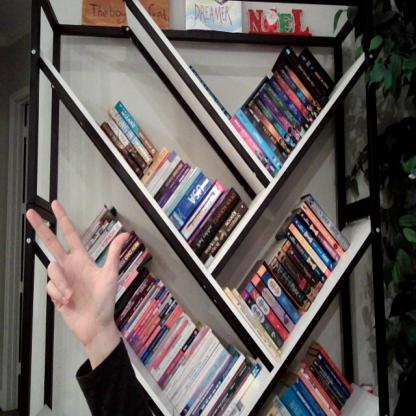three: (16, 187, 134, 347)
